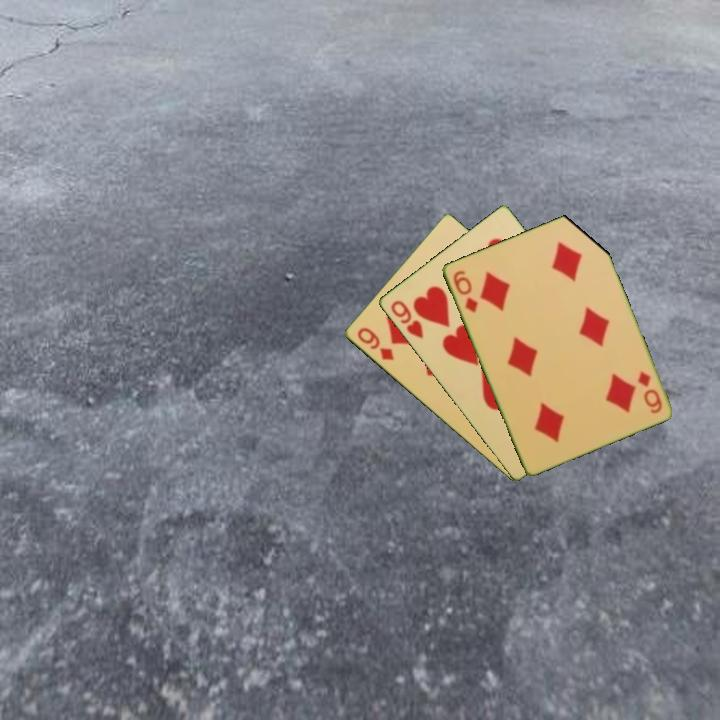6d: (449, 267, 481, 316), (634, 367, 665, 416)
9d: (353, 324, 397, 363)
9h: (387, 297, 426, 342)
